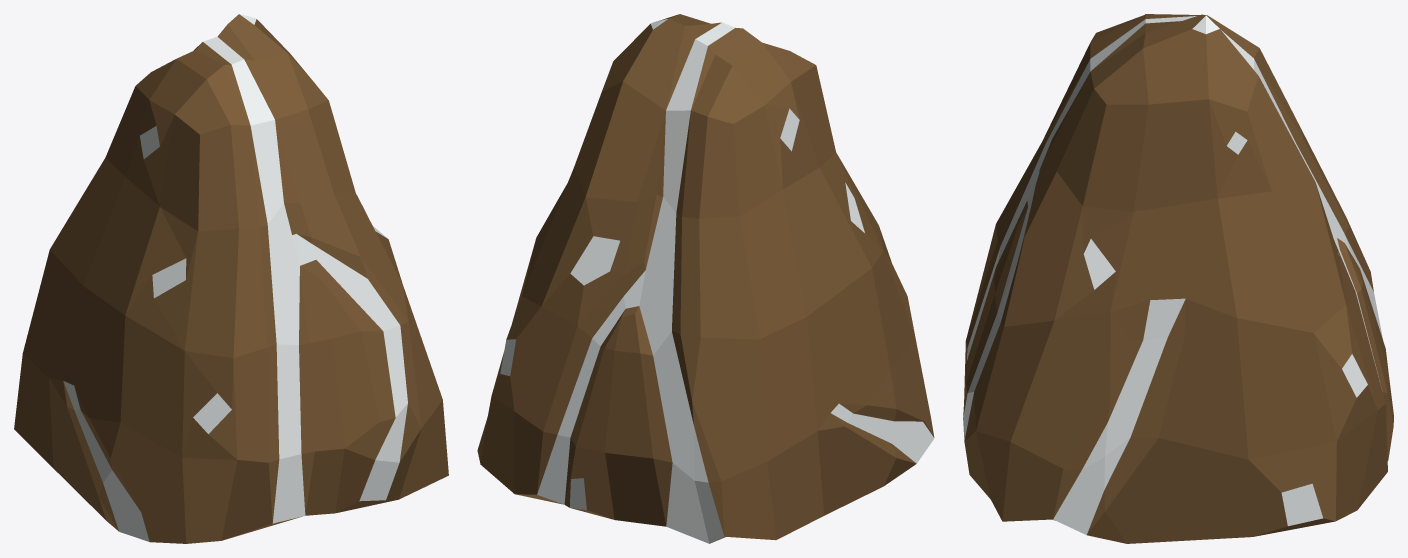
File: SilverRock.glb
3 renders of one model, left to right at view 1: azimuth 30°, elevation 25°; view 2: azimuth 150°, elevation 25°; view 3: azimuth 270°, elevation 25°, orthographic. The views are drawn at different scales.
Visible parts, largest first — view 1: SilverRock; view 2: SilverRock; view 3: SilverRock.
Boxes of the visible parts, left/top/right/bottom form: SilverRock: left=14, top=14, right=448, bottom=543; SilverRock: left=477, top=14, right=934, bottom=543; SilverRock: left=963, top=14, right=1393, bottom=543.
Bounding box in the file's own units: 0.6998 × 0.9335 × 0.7637.
